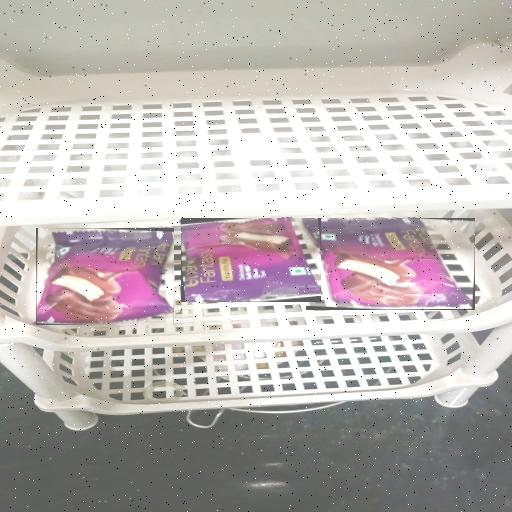Choco Pie: (306, 218, 475, 310), (36, 228, 174, 325), (181, 218, 321, 302)
